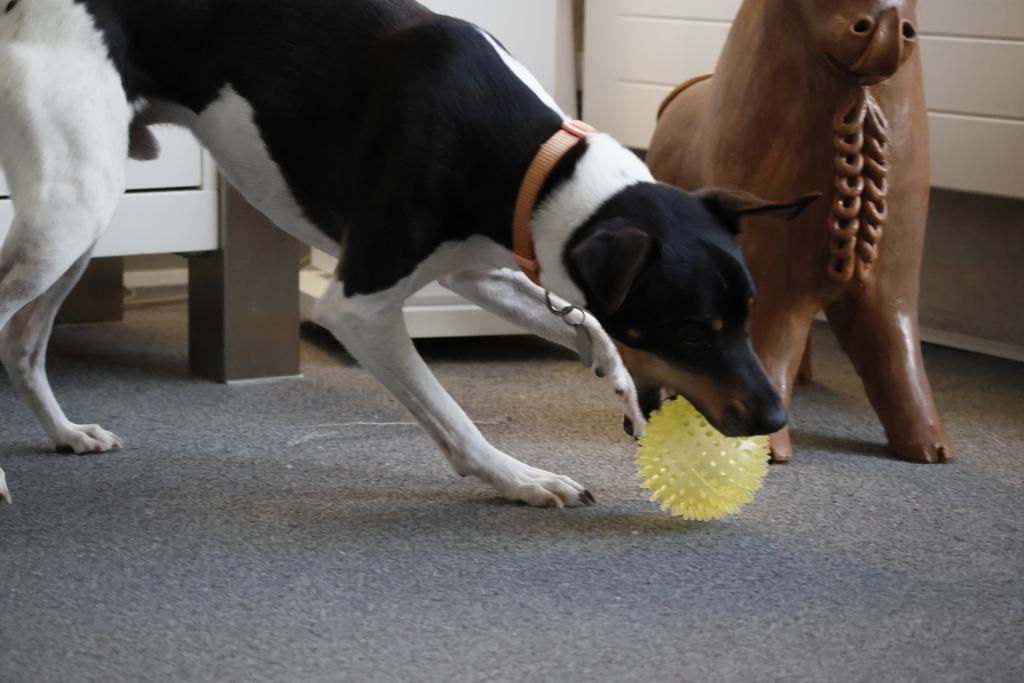Cattle: (615, 0, 973, 472)
Dog: (0, 0, 836, 518)
